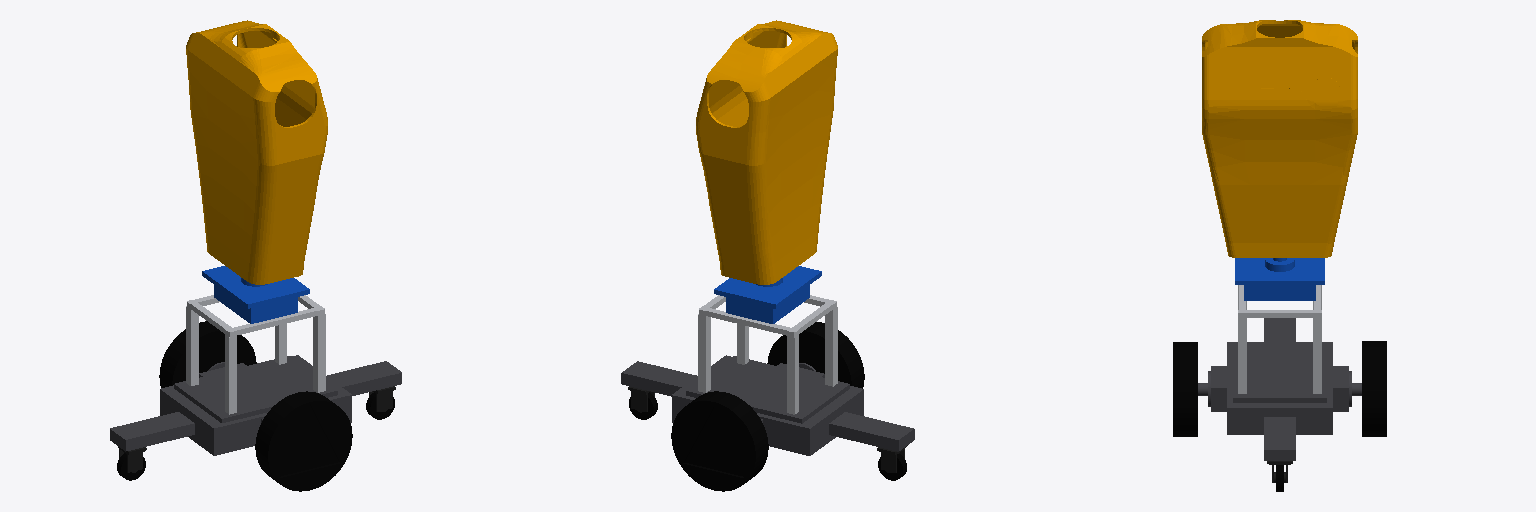
URDF robot description (zeko):
<?xml version="1.0" ?>
<!-- =================================================================================== -->
<!-- |    This document was autogenerated by xacro from urdf/zeko_nav.xacro            | -->
<!-- |    EDITING THIS FILE BY HAND IS NOT RECOMMENDED                                 | -->
<!-- =================================================================================== -->
<!--
  zeko_nav.xacro — Top-level XACRO for ZEKO navigation build.

  Includes:
    - All original model modules (base, wheels, casters, support_frame, pelvis_mount)
    - urdf/lidar.xacro  (lidar_link for AMCL — mounted at body-base junction)
    - urdf/body.xacro   (visual-only upper torso body mesh)

  Build:
    xacro urdf/zeko_nav.xacro > urdf/zeko.urdf
-->
<robot name="zeko">
  <material name="zeko_chassis_grey">
    <color rgba="0.30 0.30 0.32 1.0"/>
  </material>
  <material name="zeko_wheel_black">
    <color rgba="0.05 0.05 0.05 1.0"/>
  </material>
  <material name="zeko_caster_dark_grey">
    <color rgba="0.15 0.15 0.15 1.0"/>
  </material>
  <material name="zeko_frame_silver">
    <color rgba="0.75 0.76 0.78 1.0"/>
  </material>
  <material name="zeko_pelvis_blue">
    <color rgba="0.10 0.35 0.75 1.0"/>
  </material>
  <!-- ===================================================================
       GLOBAL DIMENSION / MASS PROPERTIES (from real CAD geometry)
       =================================================================== -->
  <!-- [kg], estimated (aluminum fork + rubber wheel) -->
  <!-- [kg], estimated (aluminum) -->
  <!-- [kg], estimated (aluminum) -->
  <!-- ===================================================================
       INERTIA HELPER MACROS
       =================================================================== -->
  <!-- ===================================================================
       BASE LINK

       P_cad = (0, 0, 0)  ==>  mesh origin xyz = (0 0 0), rpy = (0 0 cad_yaw)

       Inertia uses the REAL values computed by Fusion for this body
       (base_ixx/iyy/izz, already remapped to the ROS frame above) rather
       than the generic box_inertial formula.
       =================================================================== -->
  <link name="base_link">
    <visual>
      <origin rpy="0 0 -1.5707963267948966" xyz="0 0 0"/>
      <geometry>
        <mesh filename="package://robot_base_simulation/meshes/base_link.stl" scale="0.001 0.001 0.001"/>
      </geometry>
      <material name="zeko_chassis_grey"/>
    </visual>
    <collision>
      <!-- Simplified box collision, sized to the chassis envelope -->
      <origin rpy="0 0 0" xyz="0 0 0.159"/>
      <geometry>
        <box size="1.0 0.65 0.124"/>
      </geometry>
    </collision>
    <inertial>
      <origin rpy="0 0 0" xyz="0 0 0.16215671974457993"/>
      <mass value="59.345373525167496"/>
      <inertia ixx="0.7383072611464968" ixy="0.0" ixz="0.0" iyy="1.8362699999999998" iyz="0.0" izz="2.4707211592356684"/>
    </inertial>
  </link>
  <link name="left_wheel_link">
    <visual>
      <origin rpy="0 0 -1.5707963267948966" xyz="0 -0.3 -0.1524"/>
      <geometry>
        <mesh filename="package://robot_base_simulation/meshes/left_wheel_link.stl" scale="0.001 0.001 0.001"/>
      </geometry>
      <material name="zeko_wheel_black"/>
    </visual>
    <collision>
      <origin rpy="1.5707963267948966 0 0" xyz="0 0 0"/>
      <geometry>
        <cylinder length="0.08" radius="0.1524"/>
      </geometry>
    </collision>
    <inertial>
      <origin rpy="0 0 0" xyz="0 0 0"/>
      <mass value="6.637983487286445"/>
      <inertia ixx="0.04316667515923567" ixy="0.0" ixz="0.0" iyy="0.07991526114649682" iyz="0.0" izz="0.04340789808917197"/>
    </inertial>
  </link>
  <joint name="left_wheel_joint" type="continuous">
    <parent link="base_link"/>
    <child link="left_wheel_link"/>
    <origin rpy="0 0 0" xyz="0 0.3 0.1524"/>
    <axis xyz="0 1 0"/>
    <limit effort="60.0" velocity="20.0"/>
    <dynamics damping="0.1" friction="0.05"/>
  </joint>
  <link name="right_wheel_link">
    <visual>
      <origin rpy="0 0 -1.5707963267948966" xyz="0 0.3 -0.1524"/>
      <geometry>
        <mesh filename="package://robot_base_simulation/meshes/right_wheel_link.stl" scale="0.001 0.001 0.001"/>
      </geometry>
      <material name="zeko_wheel_black"/>
    </visual>
    <collision>
      <origin rpy="1.5707963267948966 0 0" xyz="0 0 0"/>
      <geometry>
        <cylinder length="0.08" radius="0.1524"/>
      </geometry>
    </collision>
    <inertial>
      <origin rpy="0 0 0" xyz="0 0 0"/>
      <mass value="6.637983487286445"/>
      <inertia ixx="0.04316667515923567" ixy="0.0" ixz="0.0" iyy="0.07991526114649682" iyz="0.0" izz="0.04340789808917197"/>
    </inertial>
  </link>
  <joint name="right_wheel_joint" type="continuous">
    <parent link="base_link"/>
    <child link="right_wheel_link"/>
    <origin rpy="0 0 0" xyz="0 -0.3 0.1524"/>
    <axis xyz="0 1 0"/>
    <limit effort="60.0" velocity="20.0"/>
    <dynamics damping="0.1" friction="0.05"/>
  </joint>
  <link name="front_caster_link">
    <visual>
      <origin rpy="0 0 -1.5707963267948966" xyz="-0.45 0 -0.045"/>
      <geometry>
        <mesh filename="package://robot_base_simulation/meshes/front_caster_fork.stl" scale="0.001 0.001 0.001"/>
      </geometry>
      <material name="zeko_caster_dark_grey"/>
    </visual>
    <visual>
      <origin rpy="0 0 -1.5707963267948966" xyz="-0.45 0 -0.045"/>
      <geometry>
        <mesh filename="package://robot_base_simulation/meshes/front_caster_wheel.stl" scale="0.001 0.001 0.001"/>
      </geometry>
      <material name="zeko_wheel_black"/>
    </visual>
    <collision>
      <origin rpy="0 0 0" xyz="0 0 0"/>
      <geometry>
        <sphere radius="0.045"/>
      </geometry>
    </collision>
    <inertial>
      <origin rpy="0 0 0" xyz="0 0 0"/>
      <mass value="0.6"/>
      <inertia ixx="0.00048599999999999994" ixy="0.0" ixz="0.0" iyy="0.00048599999999999994" iyz="0.0" izz="0.00048599999999999994"/>
    </inertial>
  </link>
  <joint name="front_caster_joint" type="fixed">
    <parent link="base_link"/>
    <child link="front_caster_link"/>
    <origin rpy="0 0 0" xyz="0.45 0 0.045"/>
  </joint>
  <link name="rear_caster_link">
    <visual>
      <origin rpy="0 0 -1.5707963267948966" xyz="0.45 0 -0.045"/>
      <geometry>
        <mesh filename="package://robot_base_simulation/meshes/rear_caster_fork.stl" scale="0.001 0.001 0.001"/>
      </geometry>
      <material name="zeko_caster_dark_grey"/>
    </visual>
    <visual>
      <origin rpy="0 0 -1.5707963267948966" xyz="0.45 0 -0.045"/>
      <geometry>
        <mesh filename="package://robot_base_simulation/meshes/rear_caster_wheel.stl" scale="0.001 0.001 0.001"/>
      </geometry>
      <material name="zeko_wheel_black"/>
    </visual>
    <collision>
      <origin rpy="0 0 0" xyz="0 0 0"/>
      <geometry>
        <sphere radius="0.045"/>
      </geometry>
    </collision>
    <inertial>
      <origin rpy="0 0 0" xyz="0 0 0"/>
      <mass value="0.6"/>
      <inertia ixx="0.00048599999999999994" ixy="0.0" ixz="0.0" iyy="0.00048599999999999994" iyz="0.0" izz="0.00048599999999999994"/>
    </inertial>
  </link>
  <joint name="rear_caster_joint" type="fixed">
    <parent link="base_link"/>
    <child link="rear_caster_link"/>
    <origin rpy="0 0 0" xyz="-0.45 0 0.045"/>
  </joint>
  <link name="support_frame_link">
    <visual>
      <origin rpy="0 0 -1.5707963267948966" xyz="0 0 -0.221"/>
      <geometry>
        <mesh filename="package://robot_base_simulation/meshes/support_frame_link.stl" scale="0.001 0.001 0.001"/>
      </geometry>
      <material name="zeko_frame_silver"/>
    </visual>
    <collision>
      <origin rpy="0 0 0" xyz="0 0 0.1415"/>
      <geometry>
        <box size="0.348 0.268 0.283"/>
      </geometry>
    </collision>
    <inertial>
      <origin rpy="0 0 0" xyz="0 0 0.1415"/>
      <mass value="3.5"/>
      <inertia ixx="0.04430795833333333" ixy="0.0" ixz="0.0" iyy="0.05868129166666665" iyz="0.0" izz="0.056270666666666656"/>
    </inertial>
  </link>
  <joint name="support_frame_joint" type="fixed">
    <parent link="base_link"/>
    <child link="support_frame_link"/>
    <origin rpy="0 0 0" xyz="0 0 0.221"/>
  </joint>
  <link name="pelvis_mount_link">
    <visual>
      <origin rpy="0 0 -1.5707963267948966" xyz="0 0 -0.504"/>
      <geometry>
        <mesh filename="package://robot_base_simulation/meshes/pelvis_mount_link.stl" scale="0.001 0.001 0.001"/>
      </geometry>
      <material name="zeko_pelvis_blue"/>
    </visual>
    <collision>
      <origin rpy="0 0 0" xyz="0 0 0.076"/>
      <geometry>
        <box size="0.225 0.285 0.152"/>
      </geometry>
    </collision>
    <inertial>
      <origin rpy="0 0 0" xyz="0 0 0.076"/>
      <mass value="3.0"/>
      <inertia ixx="0.026082249999999998" ixy="0.0" ixz="0.0" iyy="0.01843225" iyz="0.0" izz="0.0329625"/>
    </inertial>
  </link>
  <joint name="pelvis_mount_joint" type="fixed">
    <parent link="support_frame_link"/>
    <child link="pelvis_mount_link"/>
    <origin rpy="0 0 0" xyz="0 0 0.283"/>
  </joint>
  <link name="lidar_link">
    <visual>
      <origin rpy="0 0 0" xyz="0 0 0"/>
      <geometry>
        <cylinder length="0.06" radius="0.05"/>
      </geometry>
      <material name="lidar_grey">
        <color rgba="0.3 0.3 0.3 0.8"/>
      </material>
    </visual>
    <inertial>
      <origin rpy="0 0 0" xyz="0 0 0"/>
      <mass value="0.001"/>
      <inertia ixx="0.000001" ixy="0.0" ixz="0.0" iyy="0.000001" iyz="0.0" izz="0.000001"/>
    </inertial>
  </link>
  <joint name="lidar_joint" type="fixed">
    <parent link="base_link"/>
    <child link="lidar_link"/>
    <origin rpy="0 0 0.0" xyz="0.0 0.0 0.68"/>
  </joint>
  <!-- Visual-only body link — no inertia, no collision -->
  <link name="body_link">
    <visual>
      <!--
        Visual origin:
          xyz = (0, 0.28, 0.64)
            0    = no forward/backward offset (OBJ Y-axis is already centred)
            0.28 = centres the body laterally (OBJ X-centre is at 28 cm, not 0)
            0.64 = lifts body so its bottom (OBJ Z=-64 cm) aligns with z=0 of body_link
          rpy = (0, 0, -π/2)
            Applies cad_yaw rotation so OBJ Y (depth/front-back) → ROS X (forward)
      -->
      <origin rpy="0 0 -1.5707963267948966" xyz="0 0.28 0.64"/>
      <geometry>
        <mesh filename="package://robot_base_simulation/meshes/zeko_body.obj" scale="0.01 0.01 0.01"/>
      </geometry>
    </visual>
    <!-- No collision — body is decorative, robot footprint is defined in Nav2 params -->
    <!-- No inertial — fixed joint, mass handled by pelvis_mount_link -->
  </link>
  <!--
    body_joint: fixed to pelvis_mount_link, placed at its top face.
    pelvis_mount_link origin is at z=0.504 m above base_link.
    pelvis_mount_link height = 0.152 m → top at z=0.656 m above base_link.
    So xyz="0 0 0.152" places body_link at that top face.
  -->
  <joint name="body_joint" type="fixed">
    <parent link="pelvis_mount_link"/>
    <child link="body_link"/>
    <origin rpy="0 0 0" xyz="0 0 0.152"/>
  </joint>
  <ros2_control name="zeko_system" type="system">
    <hardware>
      <plugin>mock_components/GenericSystem</plugin>
    </hardware>
    <joint name="left_wheel_joint">
      <command_interface name="velocity">
        <param name="min">-20.0</param>
        <param name="max">20.0</param>
      </command_interface>
      <state_interface name="position"/>
      <state_interface name="velocity"/>
    </joint>
    <joint name="right_wheel_joint">
      <command_interface name="velocity">
        <param name="min">-20.0</param>
        <param name="max">20.0</param>
      </command_interface>
      <state_interface name="position"/>
      <state_interface name="velocity"/>
    </joint>
  </ros2_control>
</robot>

--- What the picture shows (computed from the rendered views, not written in the file) ---
3 views of the same robot in one strip: view 1: azimuth 30°, elevation 25°; view 2: azimuth 150°, elevation 25°; view 3: azimuth 270°, elevation 25° (orthographic).
Model zeko with 9 links and 8 joints (2 continuous, 6 fixed), rooted at base_link, posed every joint at zero.
Visible links, largest first — view 1: body_link, base_link, right_wheel_link, support_frame_link, pelvis_mount_link, left_wheel_link, rear_caster_link, front_caster_link; view 2: body_link, base_link, left_wheel_link, support_frame_link, pelvis_mount_link, right_wheel_link, rear_caster_link, front_caster_link; view 3: body_link, base_link, pelvis_mount_link, left_wheel_link, support_frame_link, right_wheel_link.
Boxes of the visible links, x1,y1,x2,y2 form: body_link: (186, 20, 327, 284); base_link: (110, 355, 401, 455); right_wheel_link: (255, 391, 352, 491); support_frame_link: (186, 295, 325, 414); pelvis_mount_link: (202, 266, 309, 323); left_wheel_link: (159, 321, 256, 387); rear_caster_link: (117, 447, 146, 480); front_caster_link: (366, 386, 395, 419); body_link: (696, 20, 837, 284); base_link: (621, 355, 914, 455); left_wheel_link: (671, 391, 768, 491); support_frame_link: (698, 295, 837, 414); pelvis_mount_link: (714, 266, 821, 323); right_wheel_link: (767, 322, 864, 388); rear_caster_link: (877, 445, 907, 480); front_caster_link: (628, 386, 657, 419); body_link: (1202, 20, 1357, 257); base_link: (1198, 318, 1361, 460); pelvis_mount_link: (1235, 258, 1324, 300); left_wheel_link: (1362, 341, 1386, 436); support_frame_link: (1238, 285, 1321, 393); right_wheel_link: (1173, 342, 1197, 436).
Bounding box of the posed robot: 1 × 0.68 × 1.42 m (x, y, z).
10 mesh visuals loaded from 10 distinct referenced files (9 binary STL, 1 OBJ).
